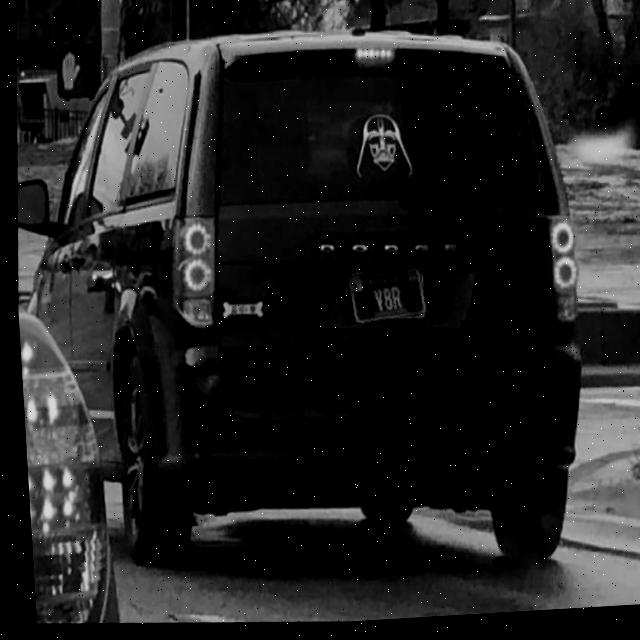LicensePlate: (345, 271, 423, 328)
